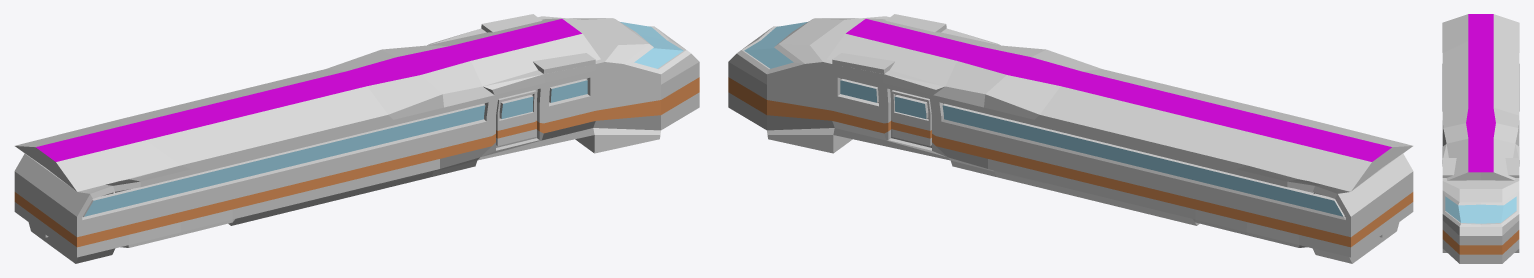
Rendered from Train.fbx.
3 renders of one model, left to right at view 1: azimuth 30°, elevation 25°; view 2: azimuth 150°, elevation 25°; view 3: azimuth 270°, elevation 25°, orthographic. The views are drawn at different scales.
Visible parts, largest first — view 1: Cube; view 2: Cube; view 3: Cube.
Boxes of the visible parts, x1,y1,x2,y2 form: Cube: (14,14,699,263); Cube: (728,14,1413,263); Cube: (1442,14,1519,263).
Bounding box in the file's own units: 2204 × 344 × 378.
